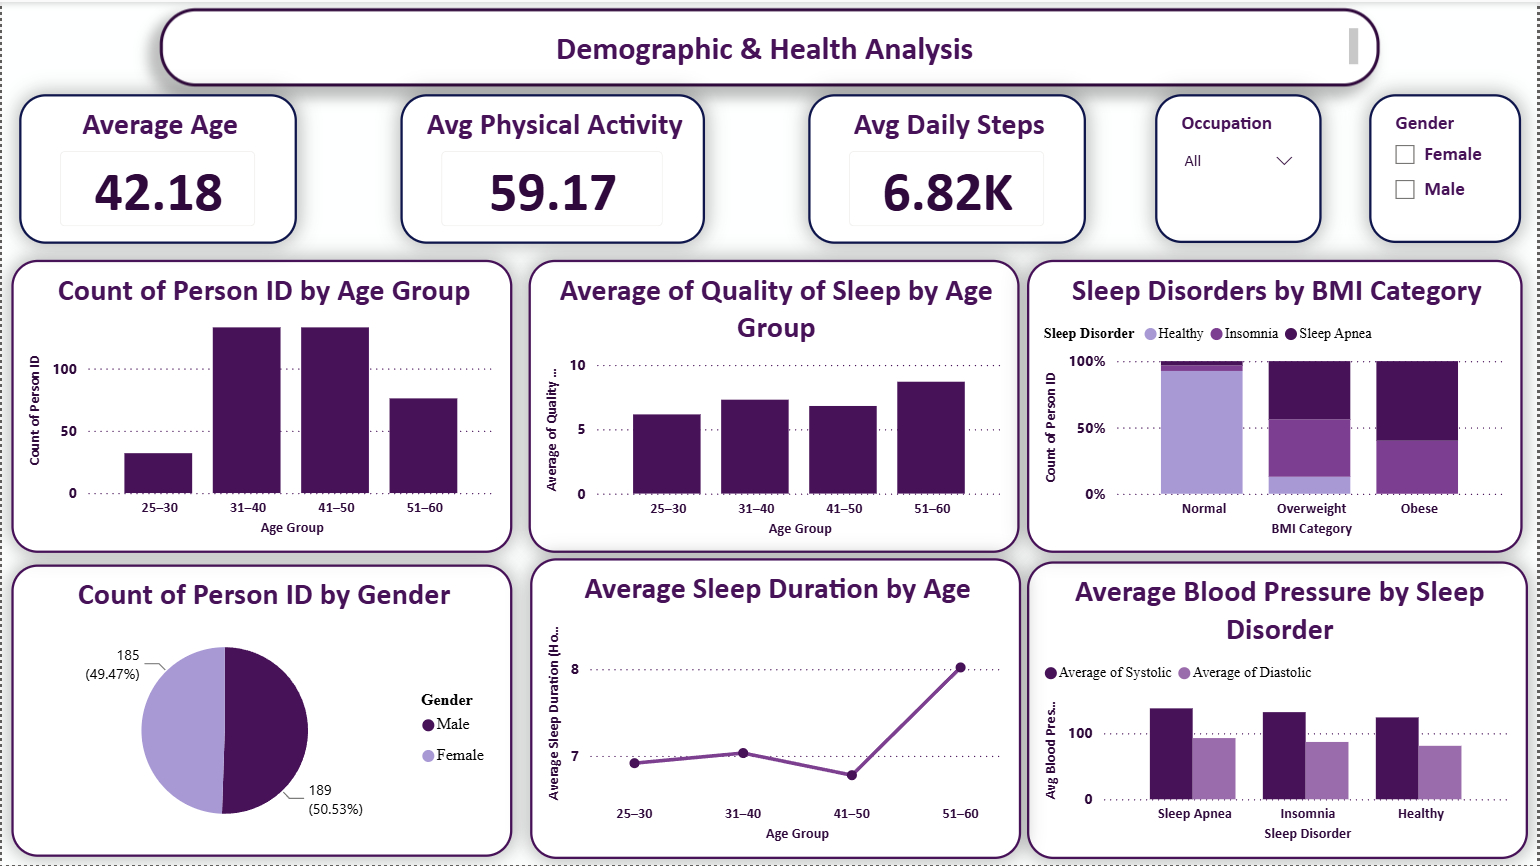

What the dashboard file says about the page in this screenshot:
{"tool":"powerbi","page":{"name":"Page 2","canvas":[1280,720],"ordinal":1},"visuals":[{"type":"clusteredColumnChart","title":"Average Blood Pressure by Sleep Disorder","fields":{"Y":["Avg(Sheet1.Systolic)","Avg(Sheet1.Diastolic)"],"Category":["Sheet1.Sleep Disorder"]},"box":[855,466,418,248],"z":0},{"type":"pieChart","fields":{"Category":["Sheet1.Gender"],"Y":["CountNonNull(Sheet1.Person ID)"]},"box":[7.9,469.3,417.9,243.6],"z":1000},{"type":"clusteredColumnChart","fields":{"Y":["Avg(Sheet1.Quality of Sleep)"],"Category":["Sheet1.Age Group"]},"box":[439.8,214.6,409.7,244.7],"z":2000},{"type":"lineChart","title":"Average Sleep Duration by Age","fields":{"Category":["Sheet1.Age Group"],"Y":["Avg(Sheet1.Sleep Duration)"]},"box":[440,464.3,409.3,250.7],"z":3000},{"type":"textbox","box":[131.3,4.9,1017.4,65.2],"z":4000},{"type":"slicer","fields":{"Values":["Sheet1.Occupation"]},"box":[962.2,76.7,138.9,124.4],"z":5000},{"type":"clusteredColumnChart","fields":{"Y":["CountNonNull(Sheet1.Person ID)"],"Category":["Sheet1.Age Group"]},"box":[7.9,215,417.9,244.3],"z":6000},{"type":"slicer","fields":{"Values":["Sheet1.Gender"]},"box":[1141.1,76.7,126.7,124.4],"z":7000},{"type":"cardVisual","title":"Average Age","fields":{"Data":["Avg(Sheet1.Age)"]},"box":[14.6,76.8,231.5,124.5],"z":8000},{"type":"cardVisual","title":"Avg Physical Activity","fields":{"Data":["Avg(Sheet1.Physical Activity Level)"]},"box":[332.6,76.8,253.9,124.5],"z":9000},{"type":"cardVisual","title":"Avg Daily Steps","fields":{"Data":["Avg(Sheet1.Daily Steps)"]},"box":[673.1,76.8,231.5,124.5],"z":10000},{"type":"hundredPercentStackedColumnChart","title":"Sleep Disorders by BMI Category","fields":{"Category":["Sheet1.BMI Category"],"Y":["Count(Sheet1.Person ID)"],"Series":["Sheet1.Sleep Disorder"]},"box":[854.8,214.6,413.2,244.7],"z":11000}]}

Visuals, with their boxes in screenshot pixels (x1, y1, x2, y2), scaled from the page's 1280x720 canvas onto the 1540x866 screenshot:
"Average Blood Pressure by Sleep Disorder" clusteredColumnChart: BBox(1029, 560, 1532, 859)
pieChart - Sheet1.Gender x CountNonNull(Sheet1.Person ID): BBox(10, 564, 512, 857)
clusteredColumnChart - Avg(Sheet1.Quality of Sleep) x Sheet1.Age Group: BBox(529, 258, 1022, 552)
"Average Sleep Duration by Age" lineChart: BBox(529, 558, 1022, 860)
textbox: BBox(158, 6, 1382, 84)
slicer - Sheet1.Occupation: BBox(1158, 92, 1325, 242)
clusteredColumnChart - CountNonNull(Sheet1.Person ID) x Sheet1.Age Group: BBox(10, 259, 512, 552)
slicer - Sheet1.Gender: BBox(1373, 92, 1525, 242)
"Average Age" cardVisual: BBox(18, 92, 296, 242)
"Avg Physical Activity" cardVisual: BBox(400, 92, 706, 242)
"Avg Daily Steps" cardVisual: BBox(810, 92, 1088, 242)
"Sleep Disorders by BMI Category" hundredPercentStackedColumnChart: BBox(1028, 258, 1526, 552)
